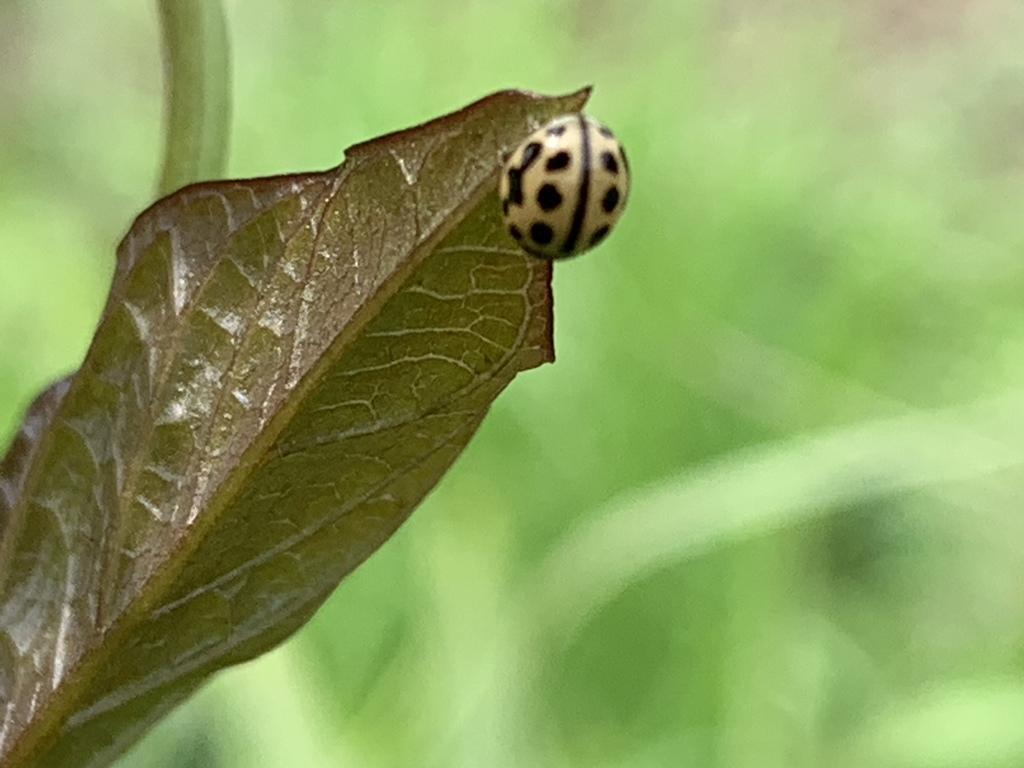ladybug: (495, 111, 635, 263)
